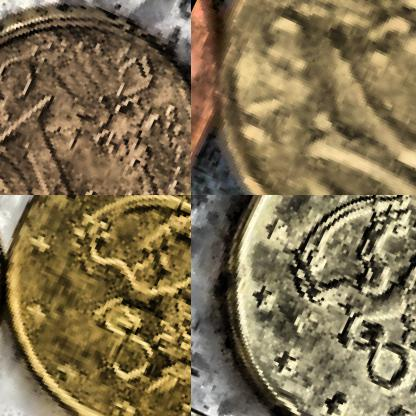coin: (191, 195, 415, 415), (191, 0, 415, 194), (0, 195, 190, 415), (0, 0, 190, 194)
